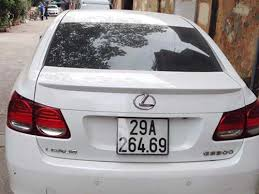number-plate: (118, 117, 167, 154)
